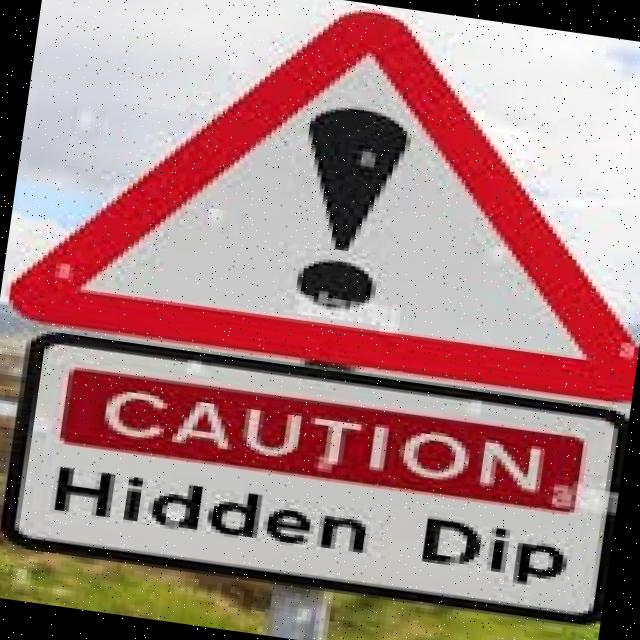warning: (4, 0, 640, 425)
